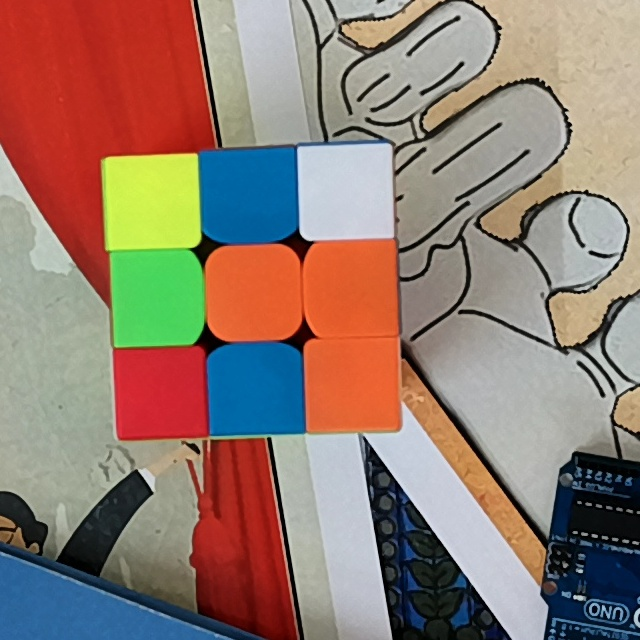tile: (306, 148, 388, 235), (110, 160, 192, 243), (112, 256, 194, 339), (311, 346, 395, 426), (207, 153, 291, 232), (315, 246, 393, 329), (212, 255, 294, 332), (213, 353, 296, 428), (119, 355, 201, 429)
